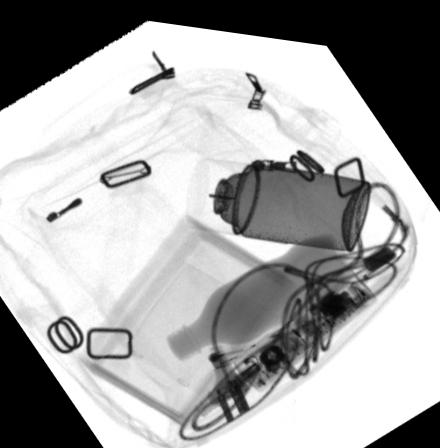Lighter: (203, 321, 271, 365)
Sprayer: (184, 151, 370, 241)
